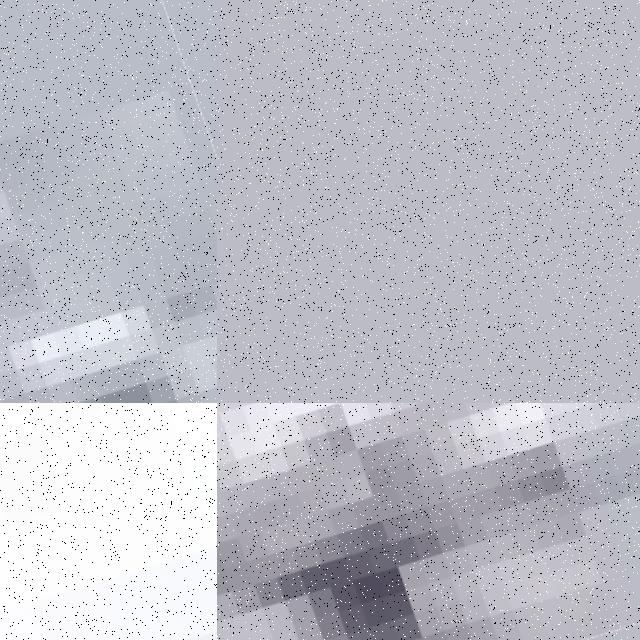0: (217, 403, 640, 640), (0, 0, 217, 403)
drone: (0, 403, 217, 640)
